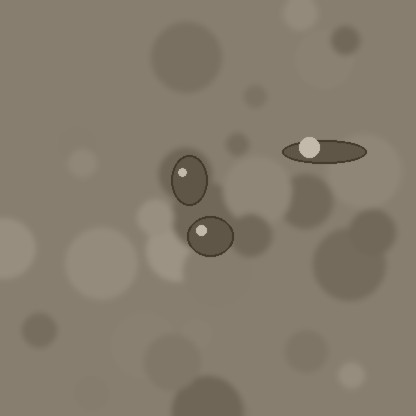gota: (282, 141, 366, 165), (187, 218, 233, 260), (171, 157, 207, 209)
